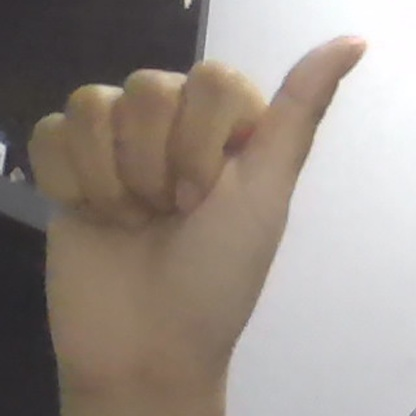A: (29, 37, 366, 384)
